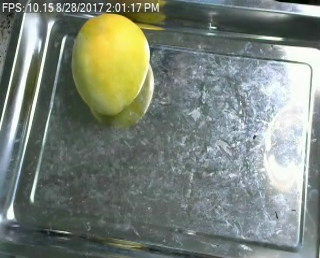Mango: (71, 15, 148, 114)
